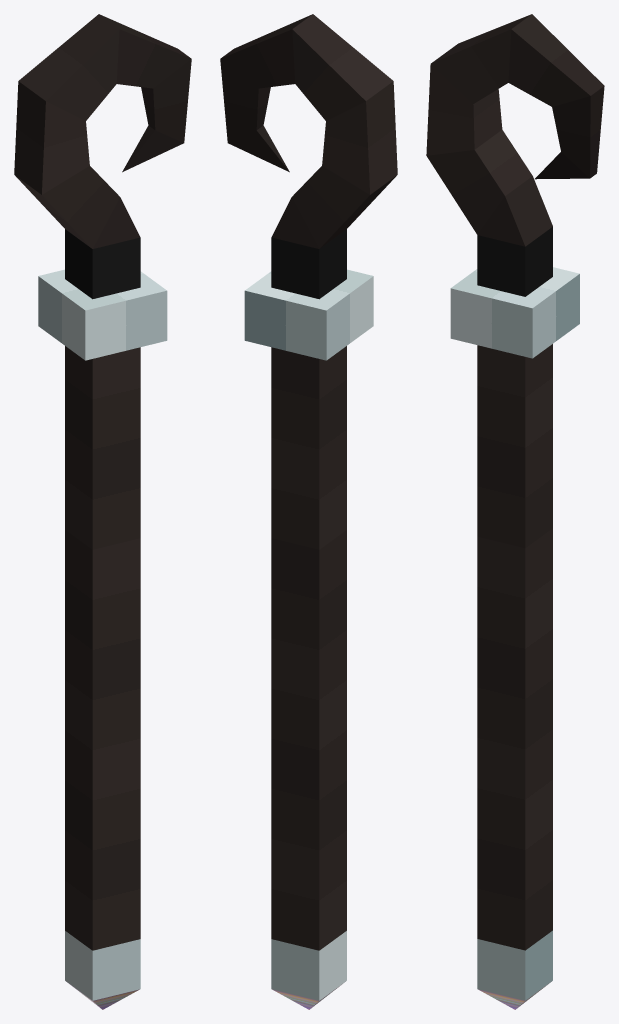
Rendered from wand_tarmaroot.obj.
3 renders of one model, left to right at view 1: azimuth 30°, elevation 25°; view 2: azimuth 150°, elevation 25°; view 3: azimuth 330°, elevation 25°, orthographic.
Parts seen in each view (by area): view 1: WAND_VAR12_Cube.042; view 2: WAND_VAR12_Cube.042; view 3: WAND_VAR12_Cube.042.
Part boxes in pixels (bbox=[...]): WAND_VAR12_Cube.042: bbox=[14, 14, 191, 1009]; WAND_VAR12_Cube.042: bbox=[220, 14, 397, 1009]; WAND_VAR12_Cube.042: bbox=[426, 14, 604, 1009].
Size of the model in its own units: 0.2047 by 1.23 by 0.1067.
